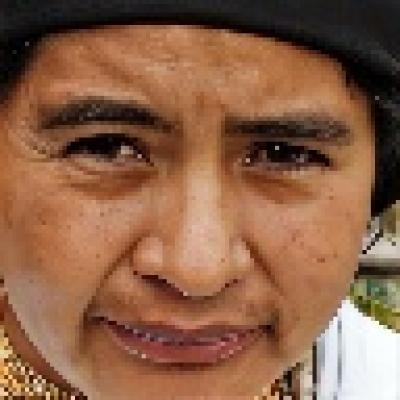sad: (13, 29, 371, 400)
